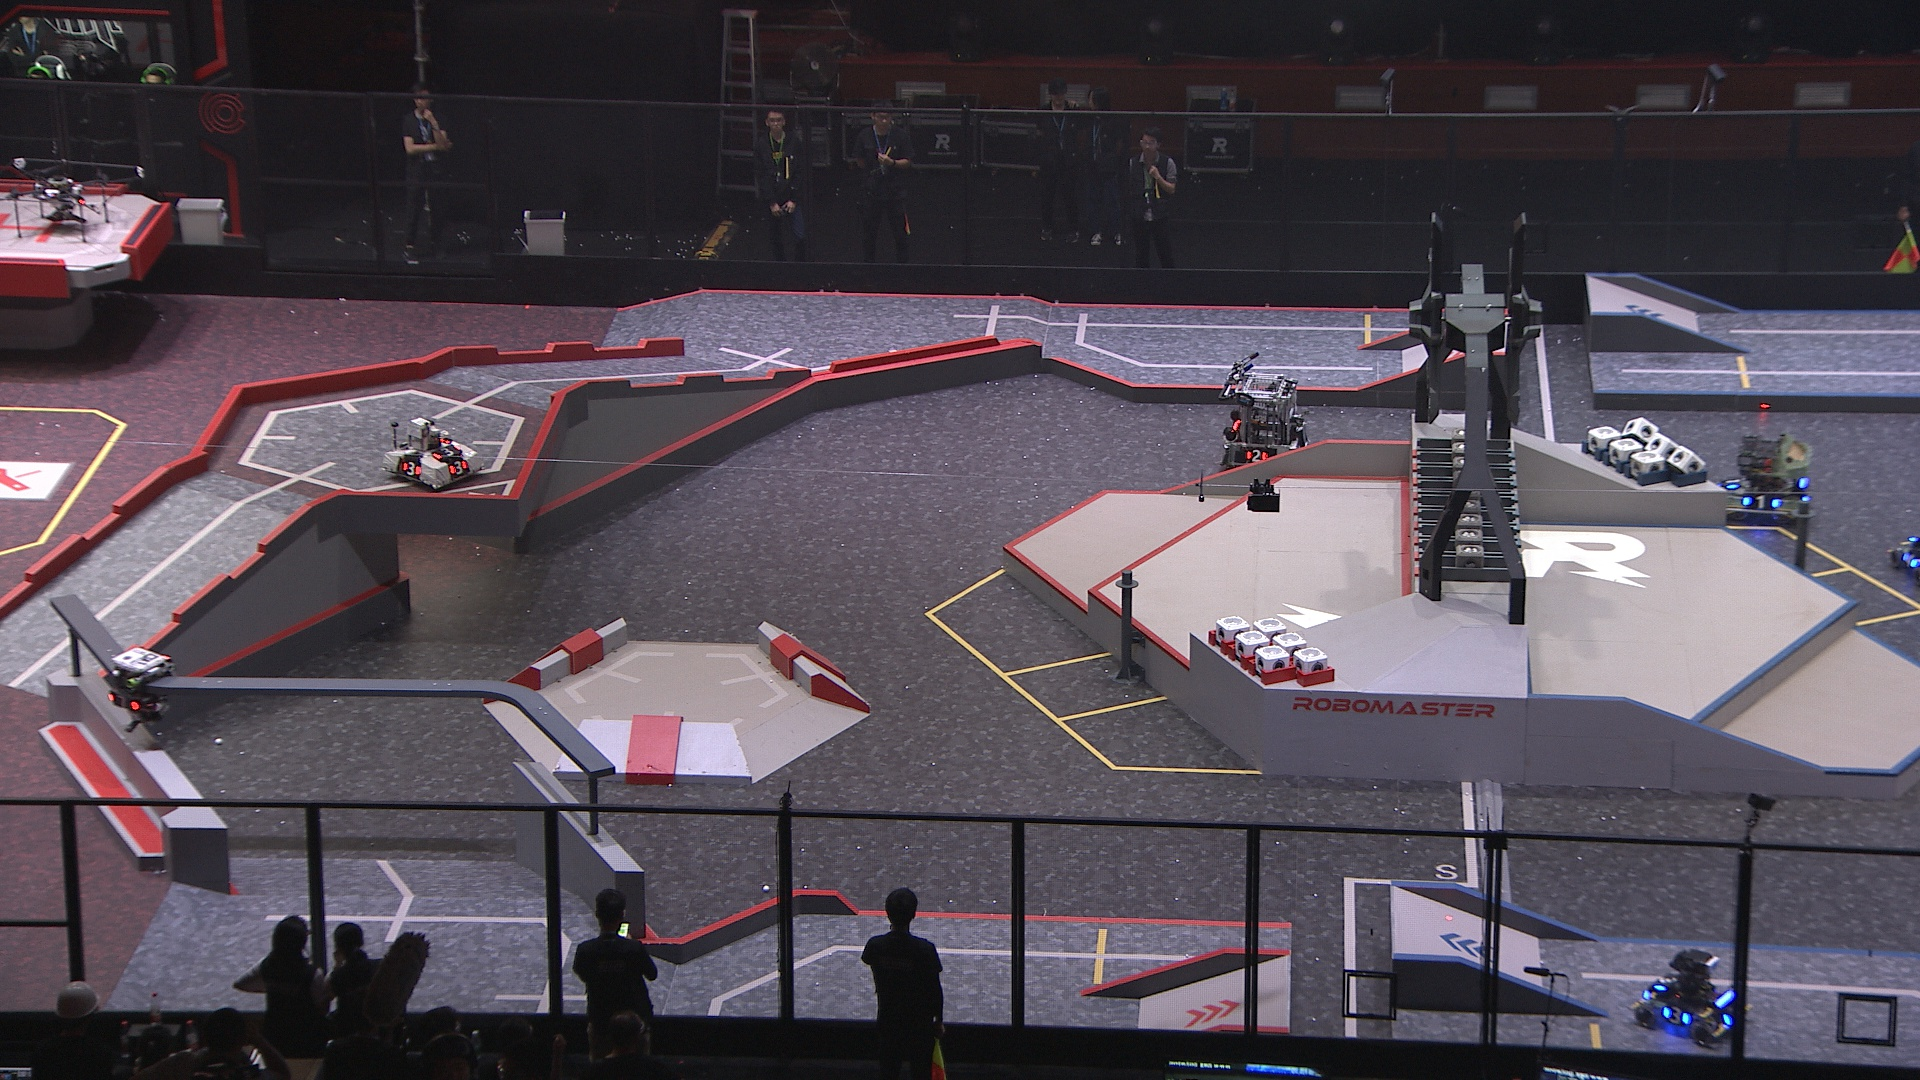armor: (103, 688, 142, 717), (1662, 1000, 1695, 1033), (1742, 493, 1782, 514), (1654, 972, 1676, 998), (433, 442, 460, 462), (1898, 549, 1920, 571), (1244, 446, 1269, 465), (401, 458, 423, 479), (447, 460, 471, 479), (1724, 473, 1741, 495)
car: (1631, 944, 1756, 1048), (376, 411, 489, 495), (1218, 367, 1309, 469), (1713, 429, 1811, 524), (1884, 517, 1920, 589)
watcher: (98, 646, 171, 738)
